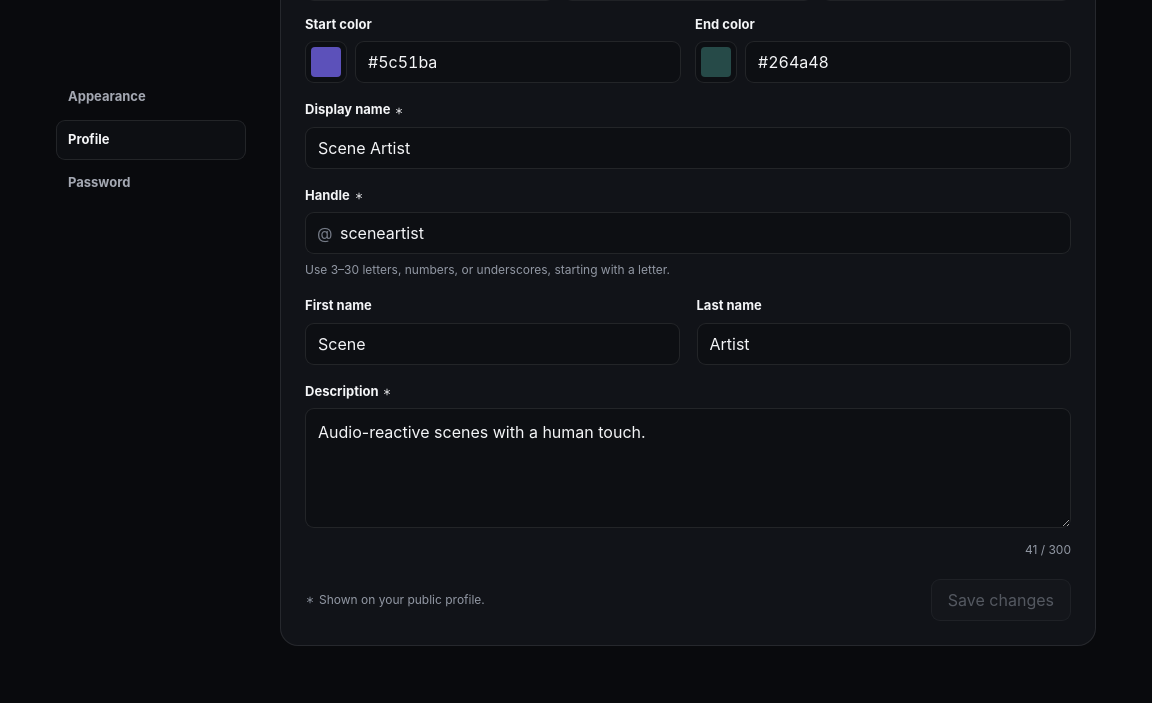
Test: SettingsPage › saves updated profile details through the authenticated backend flow
(page scrolled)
Replace the text in the field labelled "First name" with "Updated" at (492, 344), box [305,323,680,365]
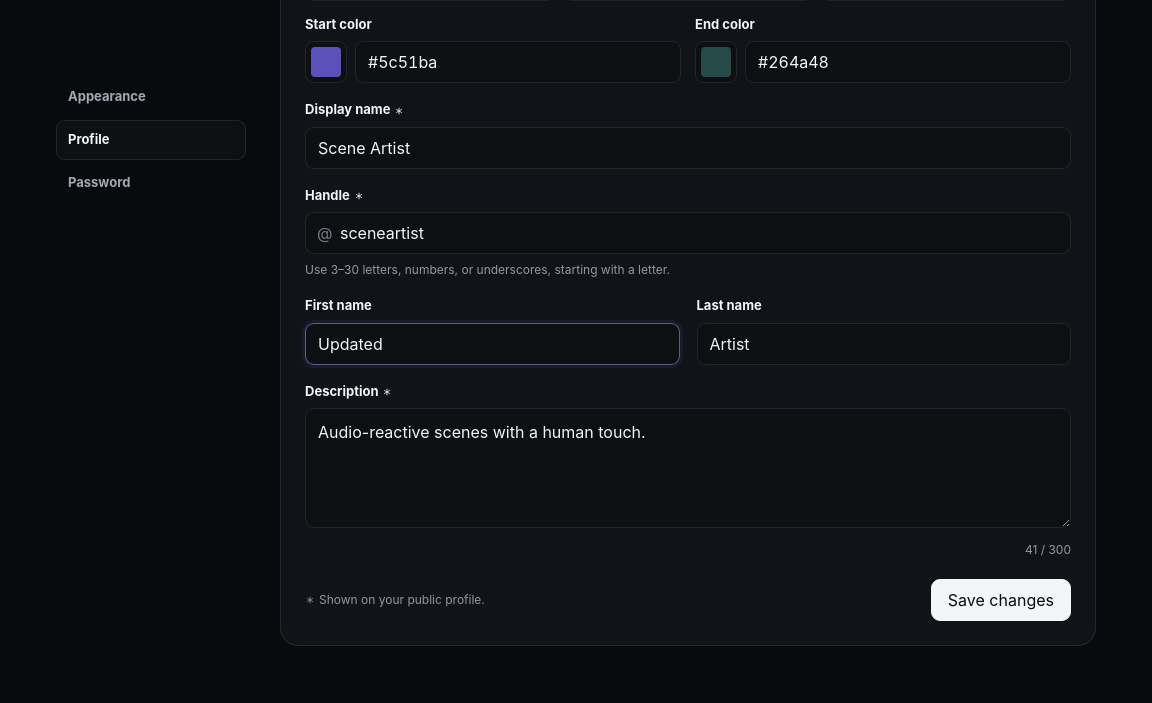
Replace the text in the field labelled "Display name" with "Updated Artist" at (688, 148), box [305,127,1071,169]
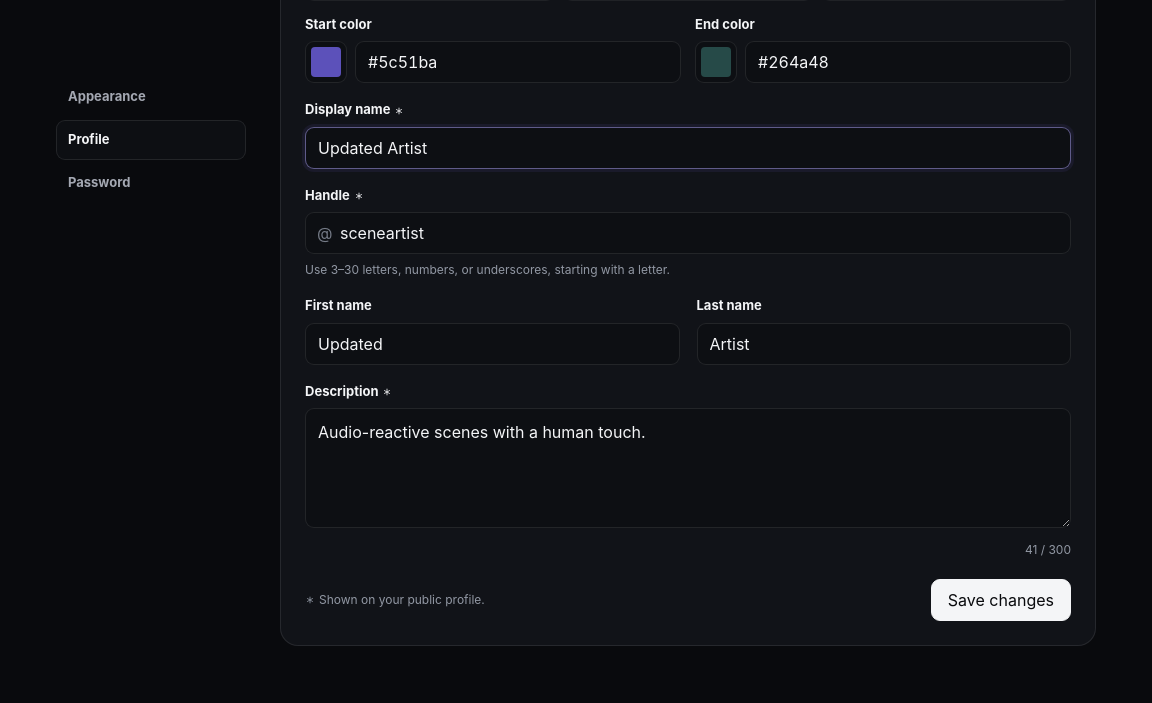
Replace the text in the field labelled "Handle" with " @Updated_Artist " at (688, 233), box [305,212,1071,254]
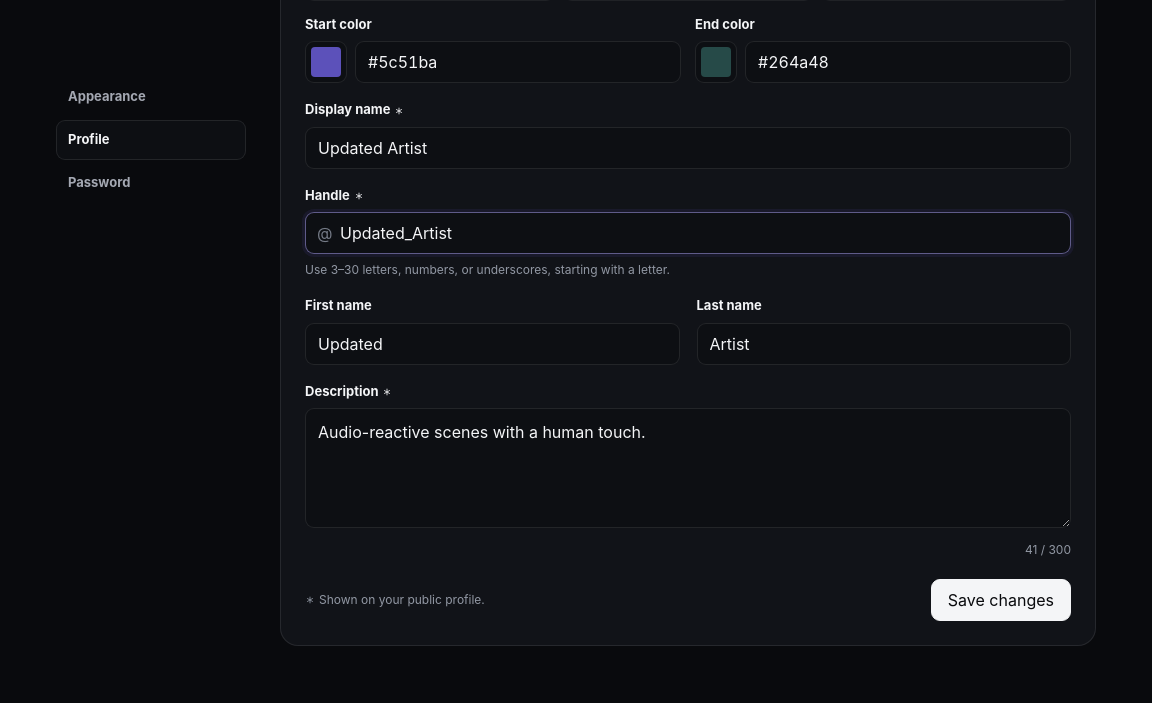
Replace the text in the text box labelled "Description" with " New profile description. " at (688, 468), box [305,408,1071,528]
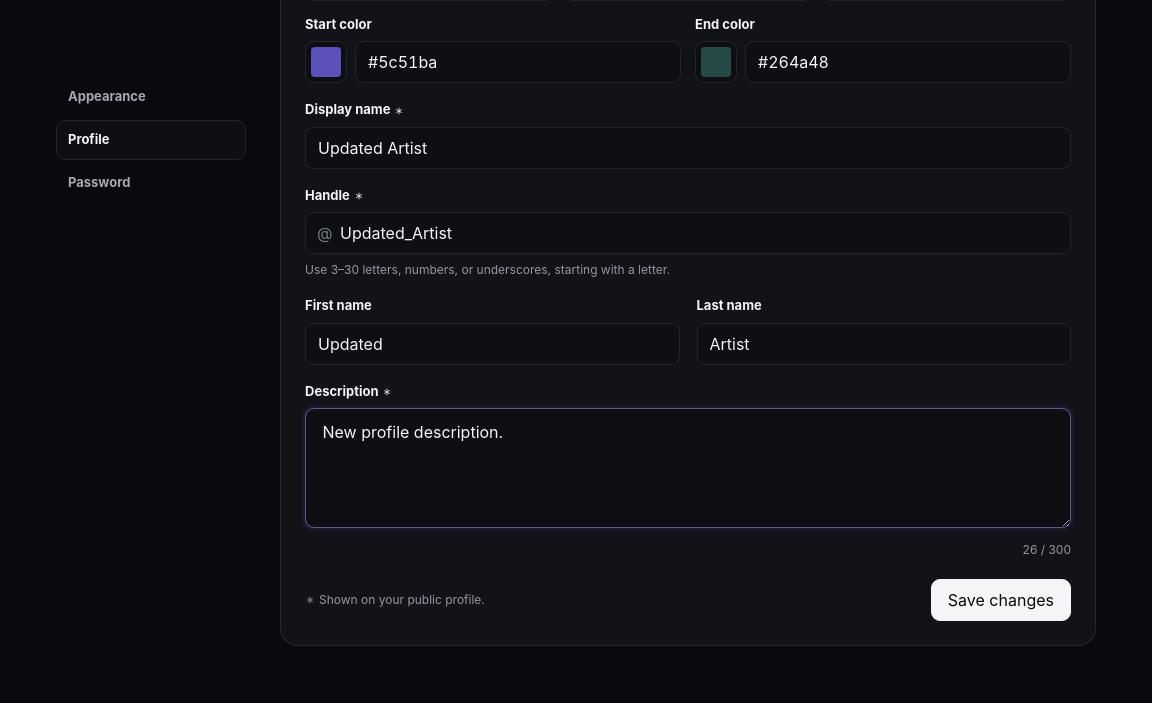
Click the button "Save changes" at (1001, 600), box [931,579,1071,621]
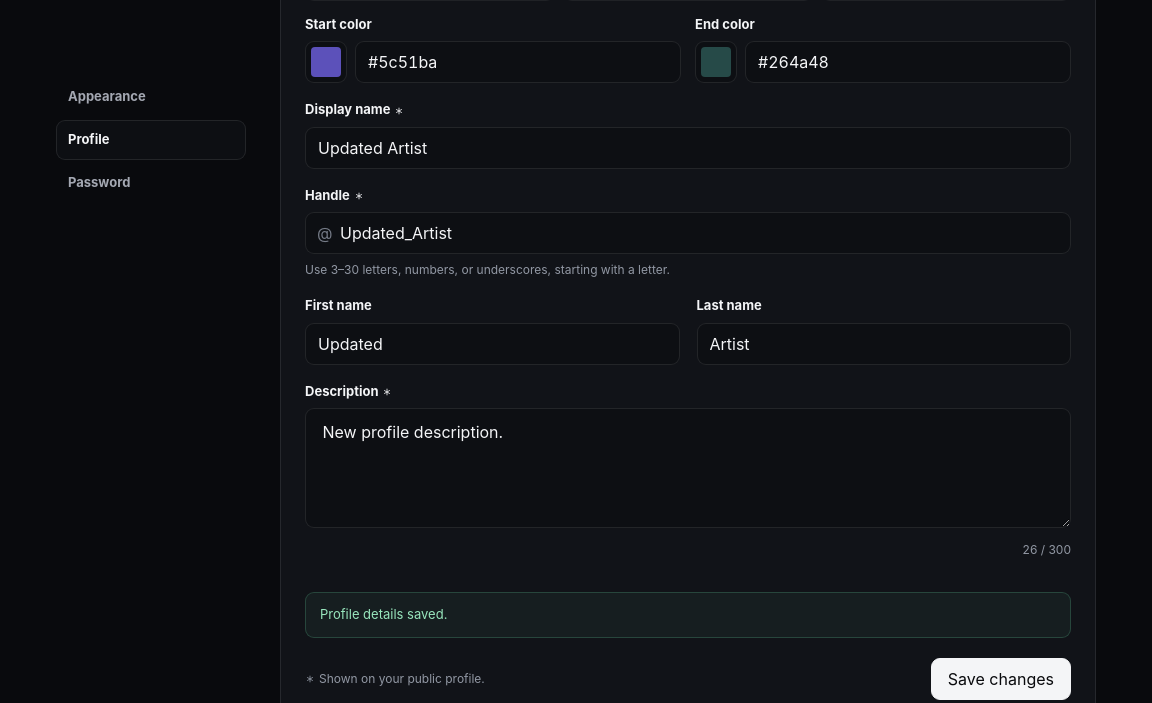
Expected: the text "Profile details saved." is shown, [305,592,1071,638]
